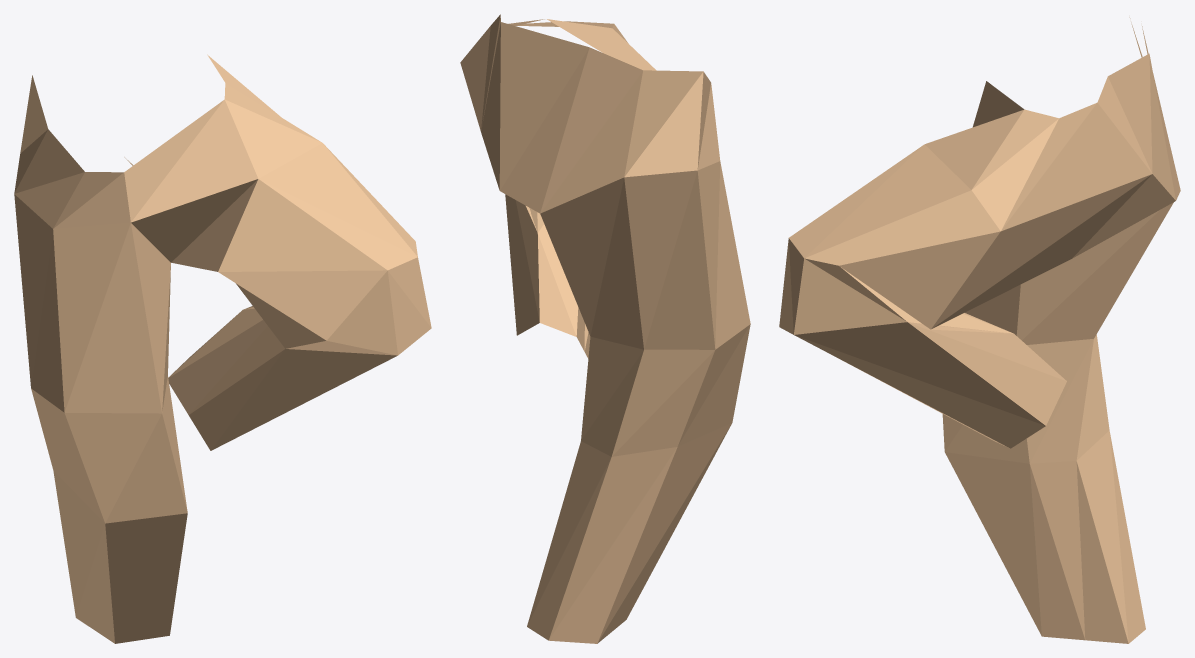
The picture shows the model from 3 angles, left to right: view 1: azimuth 30°, elevation 25°; view 2: azimuth 150°, elevation 25°; view 3: azimuth 270°, elevation 25°; orthographic projection. The views are drawn at different scales.
Size of the model in its own units: 0.6 by 1.19 by 0.7229.
